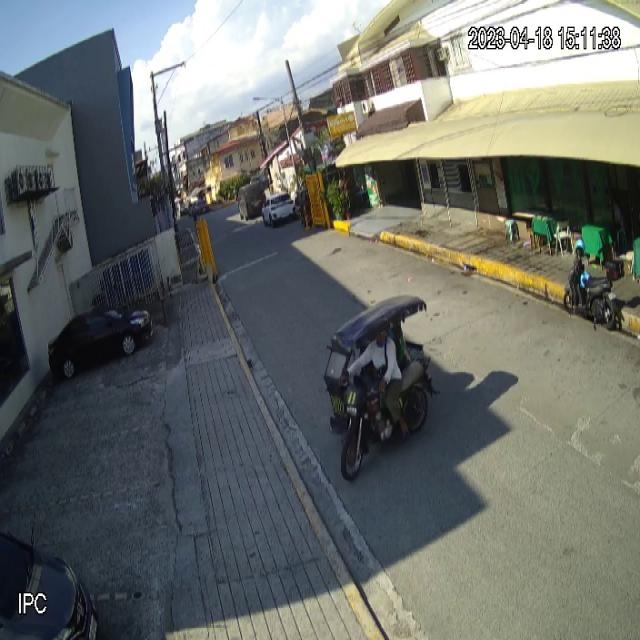Car: (47, 304, 153, 385)
Motorcycle: (564, 246, 628, 332)
Tricycle: (323, 292, 439, 482)
